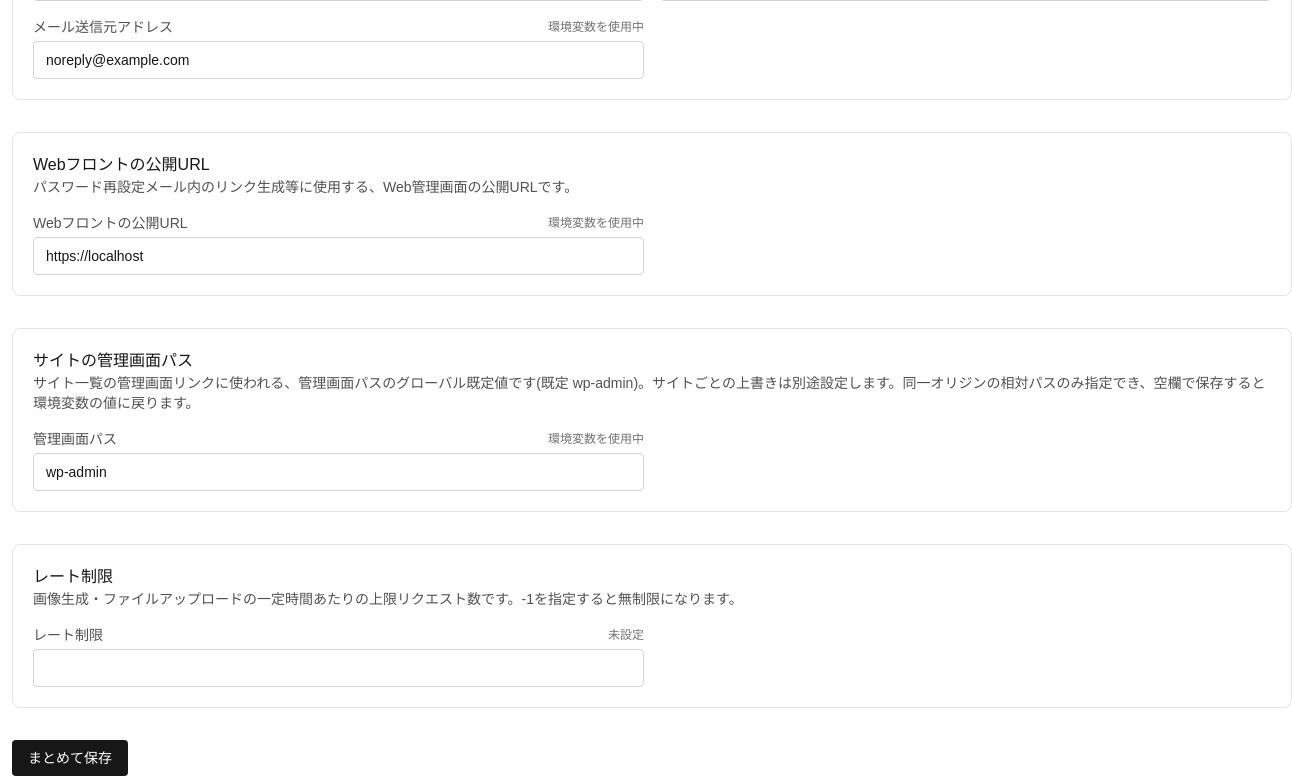
AppSettingsPanel › 保存に失敗するとエラーを表示する
(page scrolled)
Click the button "まとめて保存". click: (70, 758)
box: [12,740,128,775]
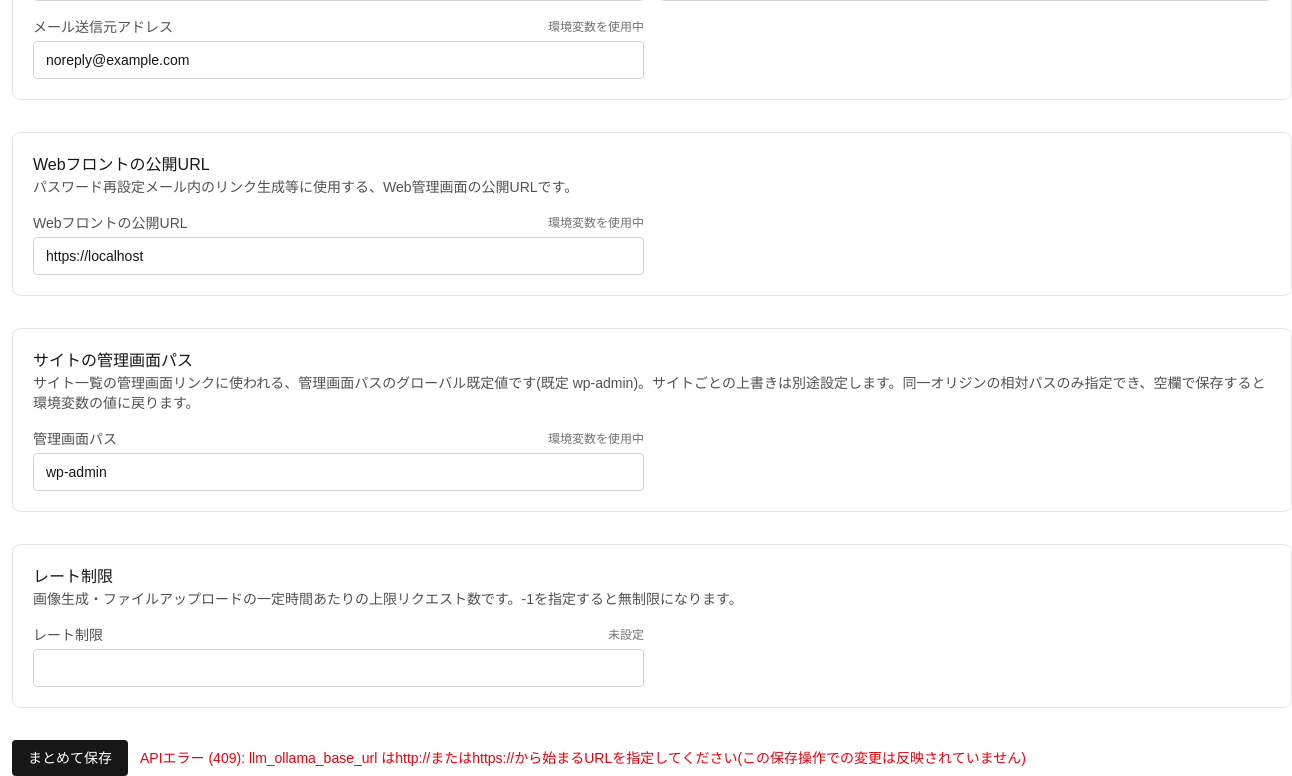
Expected: the text "http://またはhttps://から始まるURL" is shown, [140,750,737,766]
